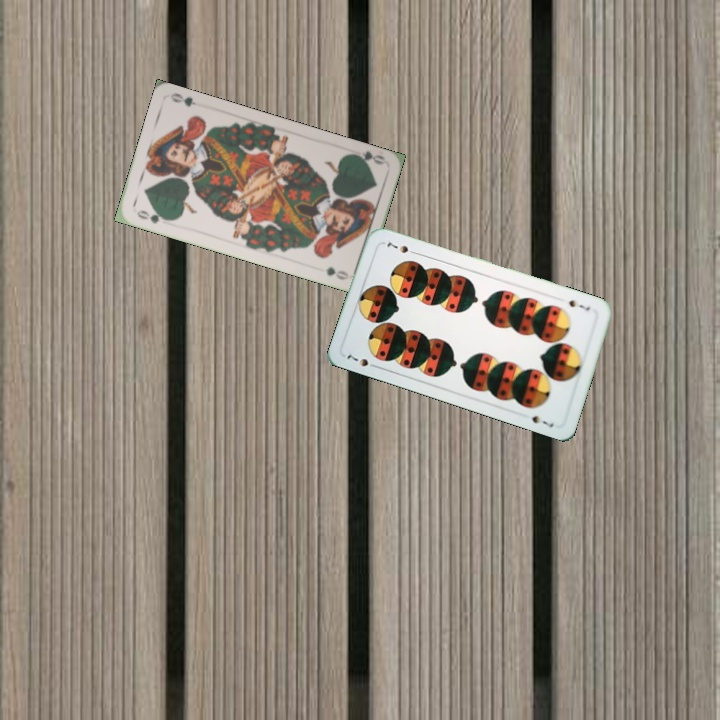GO: (346, 147, 388, 167), (133, 206, 172, 226)
S7: (343, 351, 381, 371), (564, 296, 593, 314)
